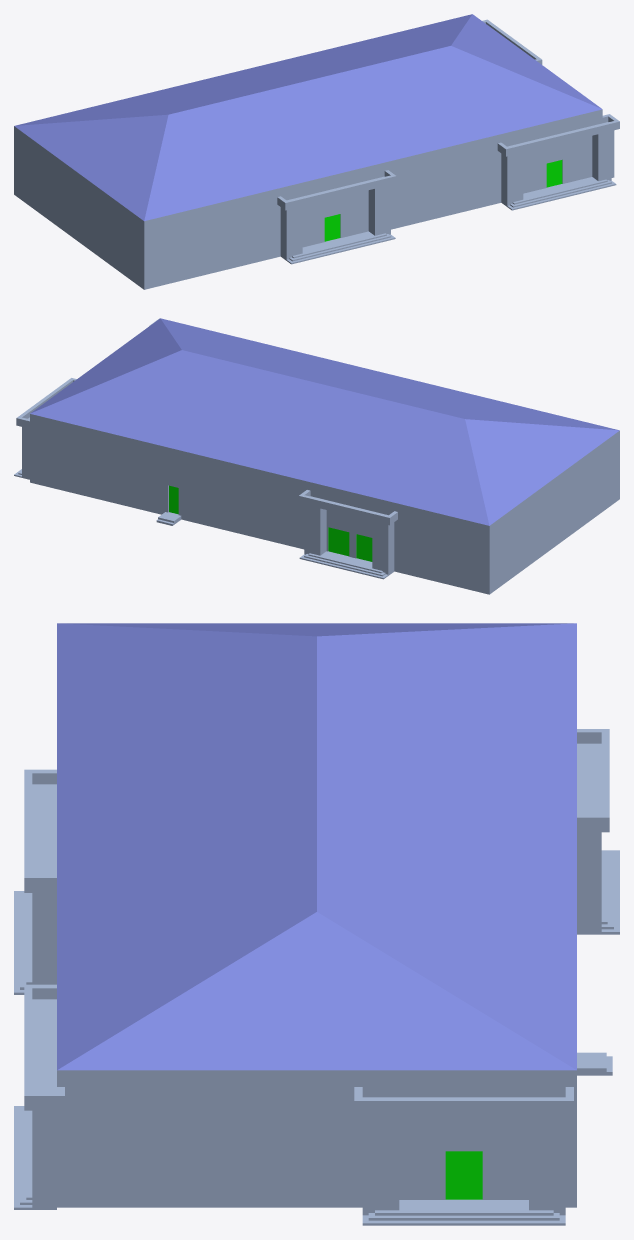
File: Dosing_Building.glb
3 views of the same model, one above another, from view 1: azimuth 30°, elevation 25°; view 2: azimuth 150°, elevation 25°; view 3: azimuth 270°, elevation 25° (orthographic). The views are drawn at different scales.
Visible parts, largest first — view 1: Roof, Floor1; view 2: Roof, Floor1; view 3: Roof, Floor1.
Boxes of the visible parts, box(x1,y1,x2,y2) form: Roof: box(14, 14, 619, 236); Floor1: box(14, 130, 616, 289); Roof: box(16, 318, 619, 541); Floor1: box(14, 427, 619, 594); Roof: box(24, 623, 609, 1115); Floor1: box(14, 832, 619, 1225).
Bounding box in the file's own units: 53.84 × 11.4 × 29.64.
